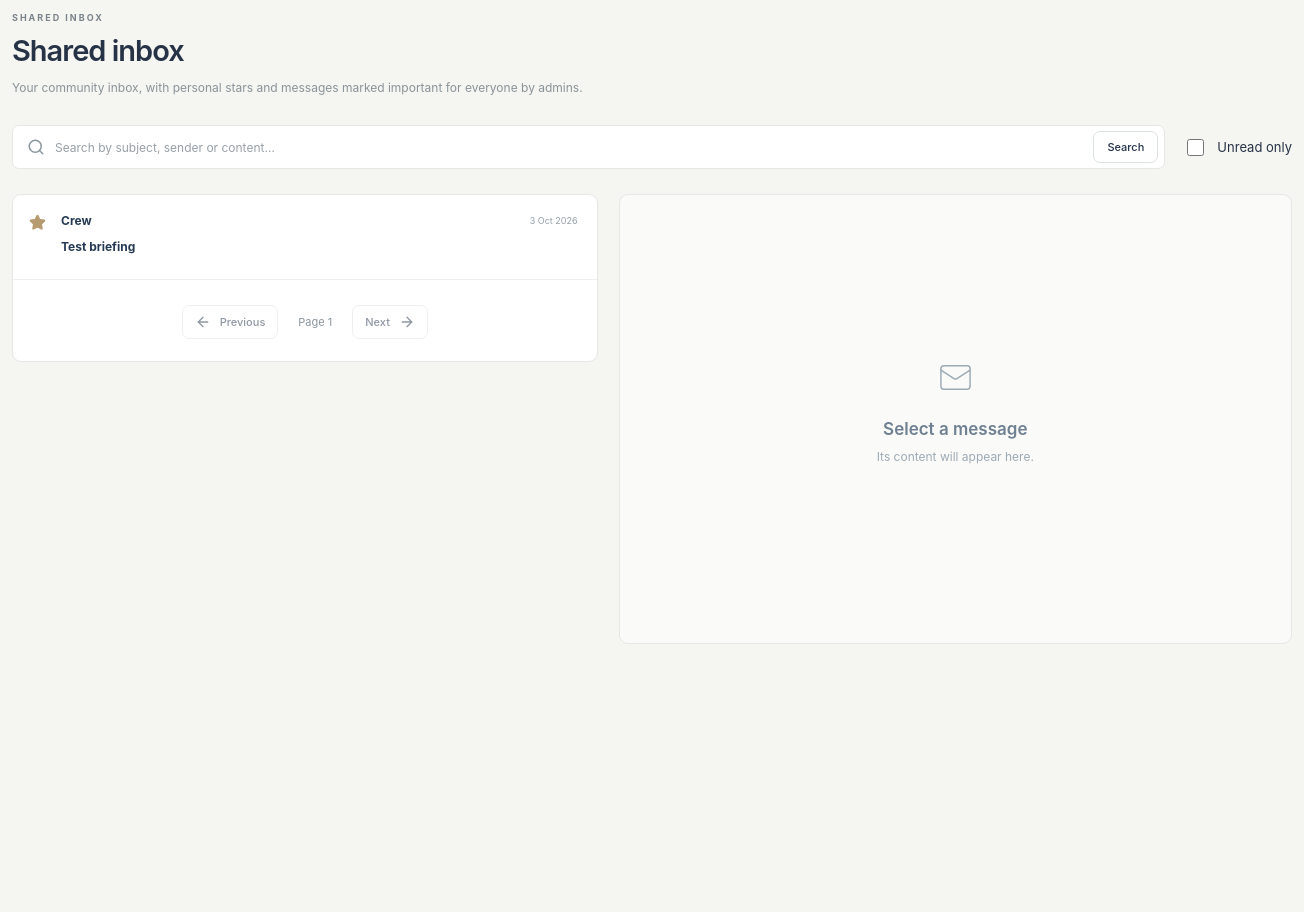
Test: Mail read state › locks failed shared changes until an explicit successful refresh
Step 1. Click the button "Crew 3 Oct 2026 Test briefing" → x=76, y=221, box left=52, top=213, right=587, bottom=261
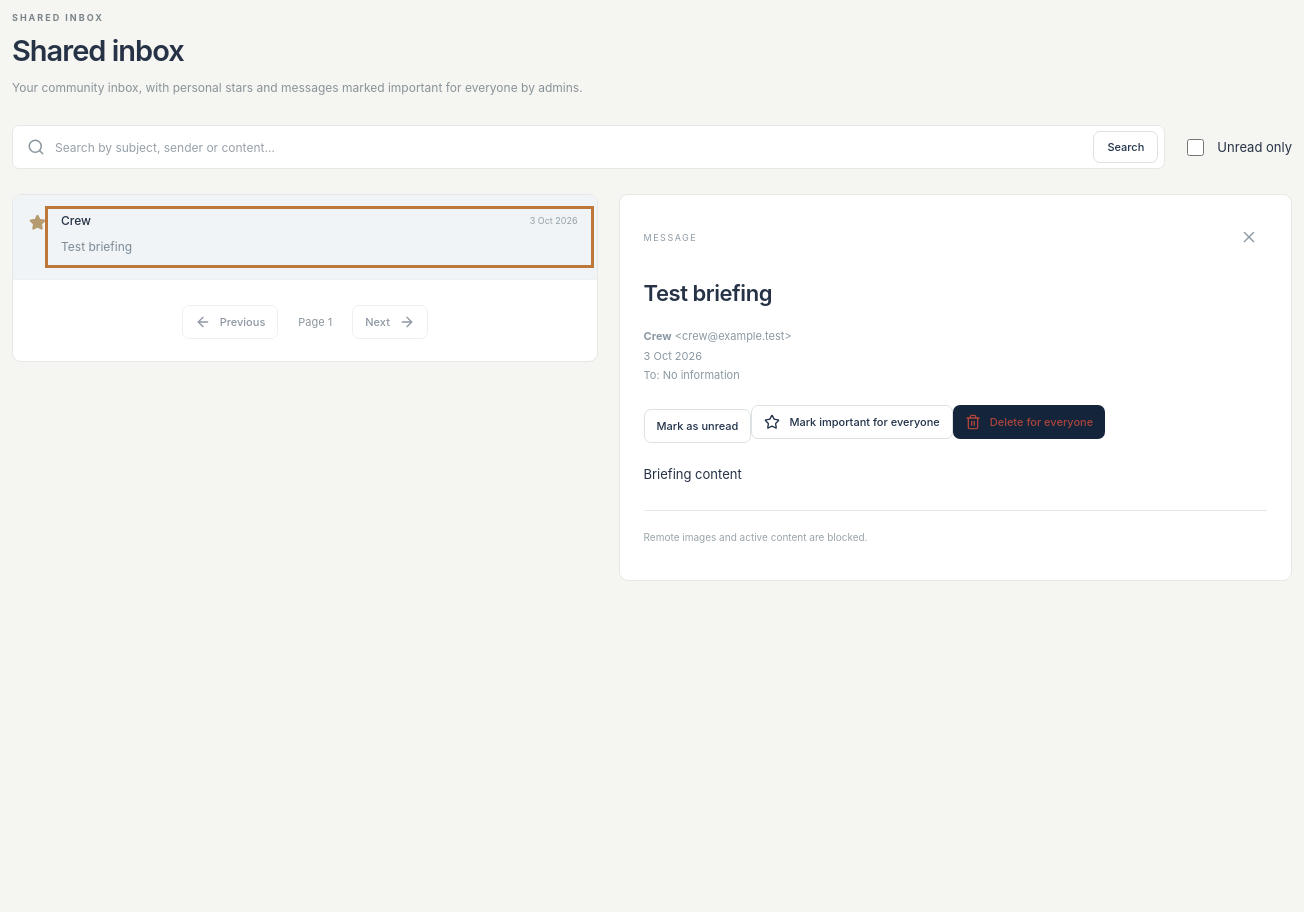
Step 2. Click the button "Mark important for everyone" → x=852, y=422, box left=751, top=405, right=953, bottom=439
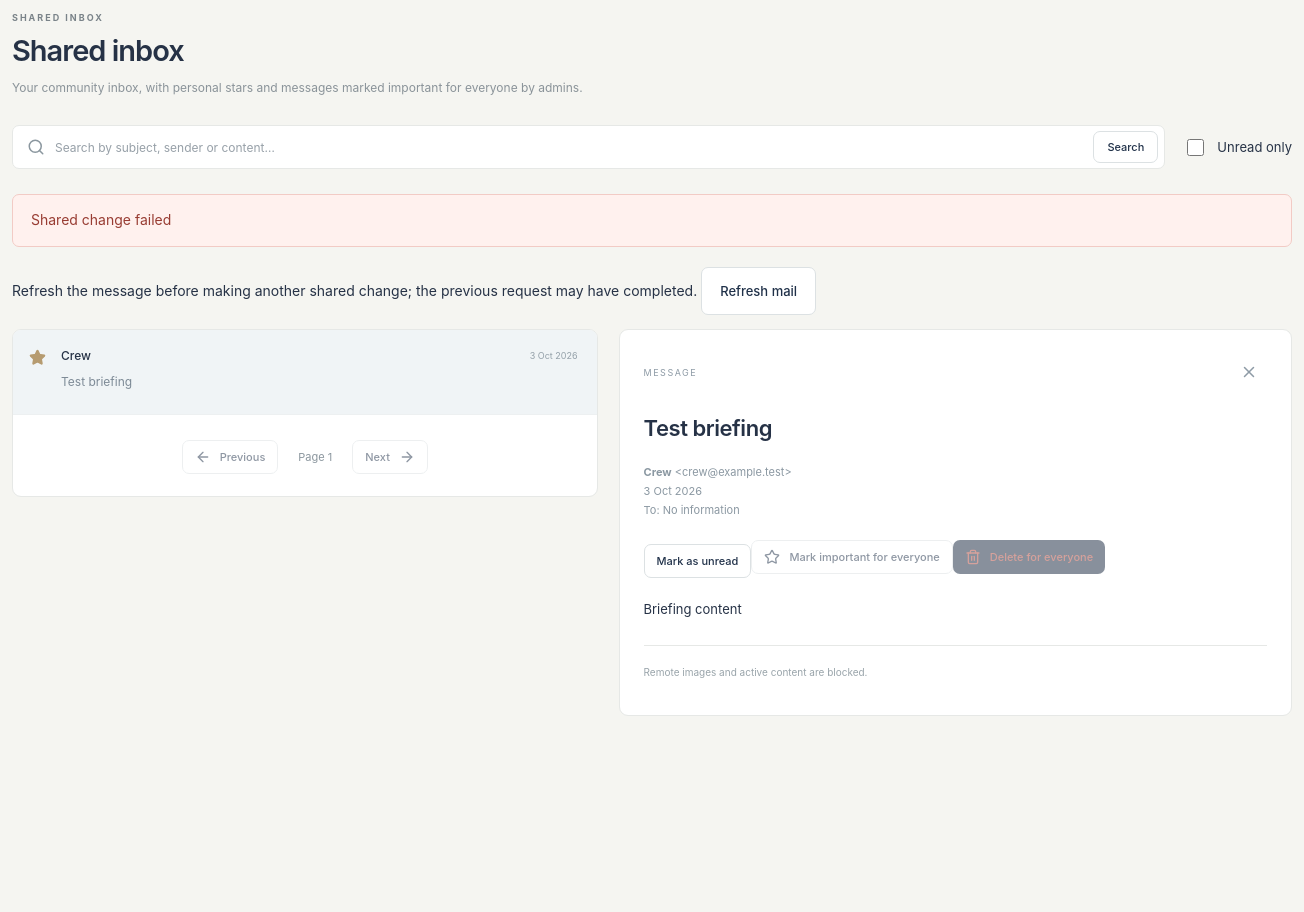
Expected: the text "Shared change failed" is shown, left=12, top=194, right=1292, bottom=247
Expected: the button "Mark important for everyone" is disabled, left=751, top=540, right=953, bottom=574
Step 3. Click the button "Refresh mail" → x=759, y=291, box left=701, top=267, right=816, bottom=316
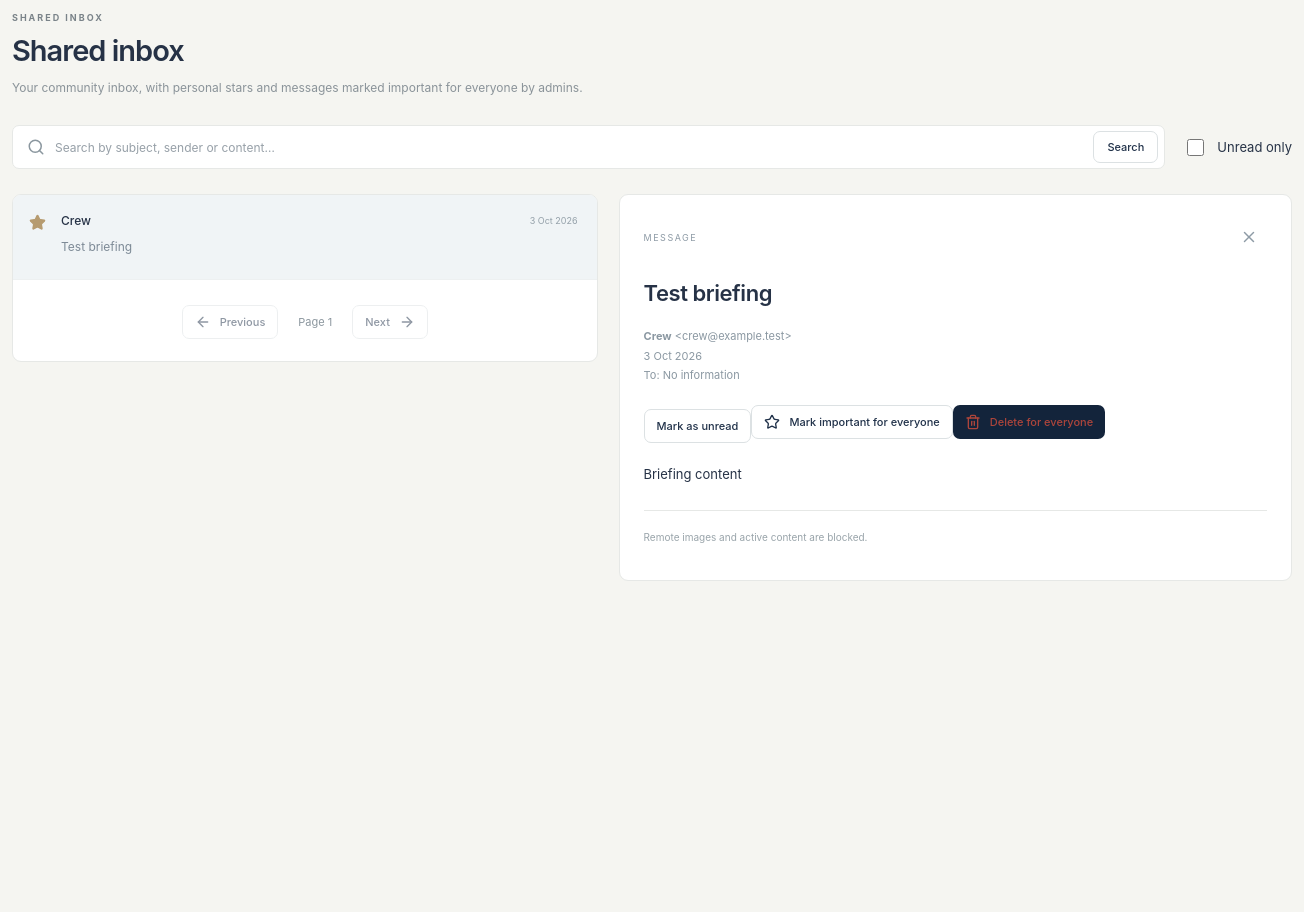
Expected: the button "Mark important for everyone" is enabled, left=751, top=405, right=953, bottom=439
